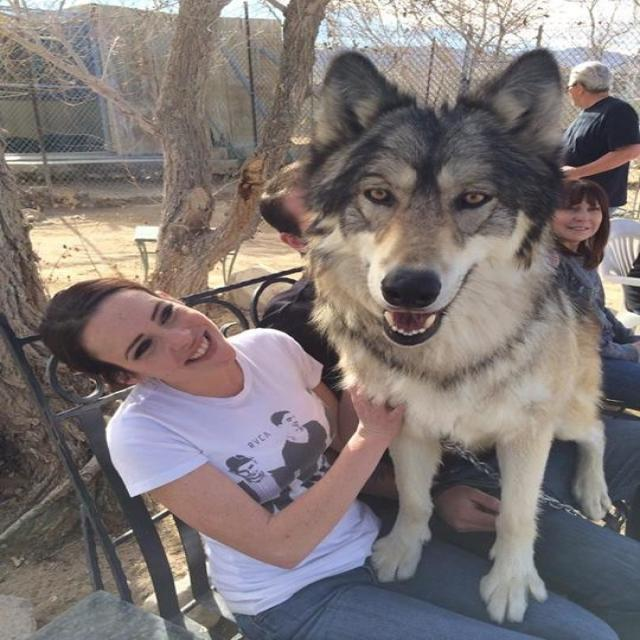dog: (250, 38, 607, 368)
